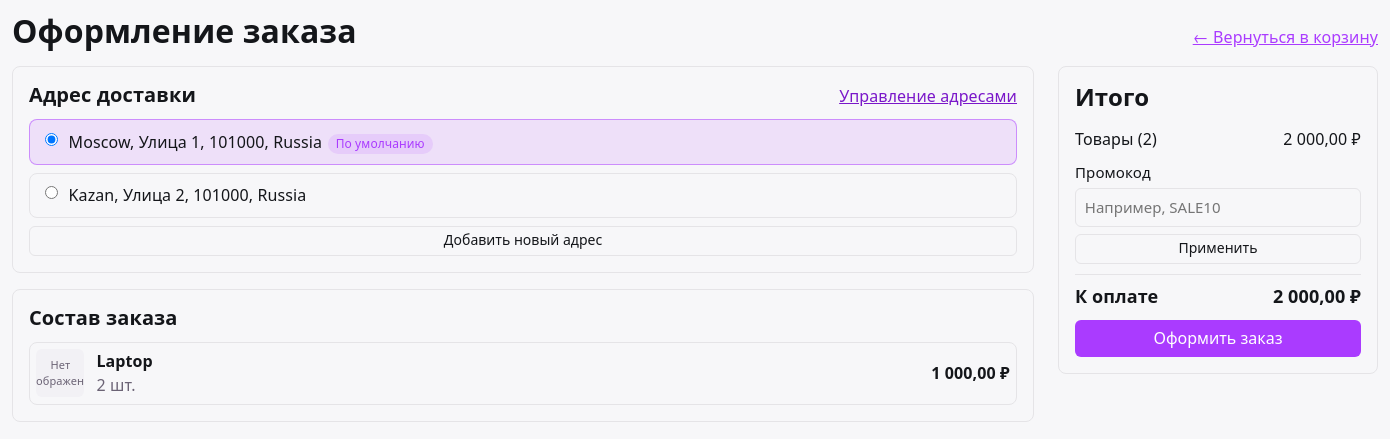
Test: CheckoutPage › ошибка промокода показывается и результат не рендерится
Type "BAD" into the field labelled "Промокод" at (1218, 208), box [1075, 188, 1361, 227]
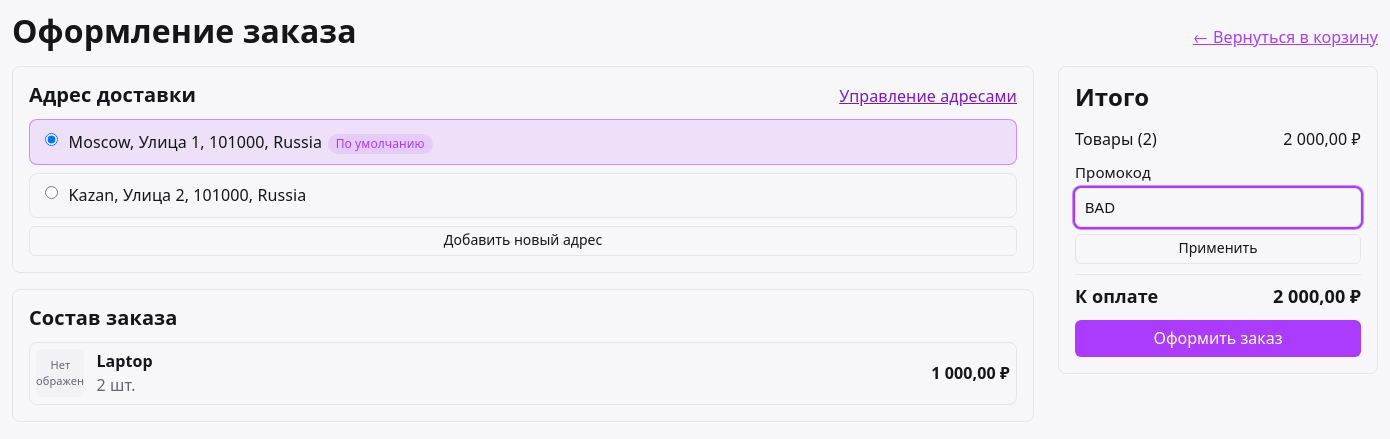
Click the button "Применить" at (1218, 248), box [1075, 234, 1361, 264]
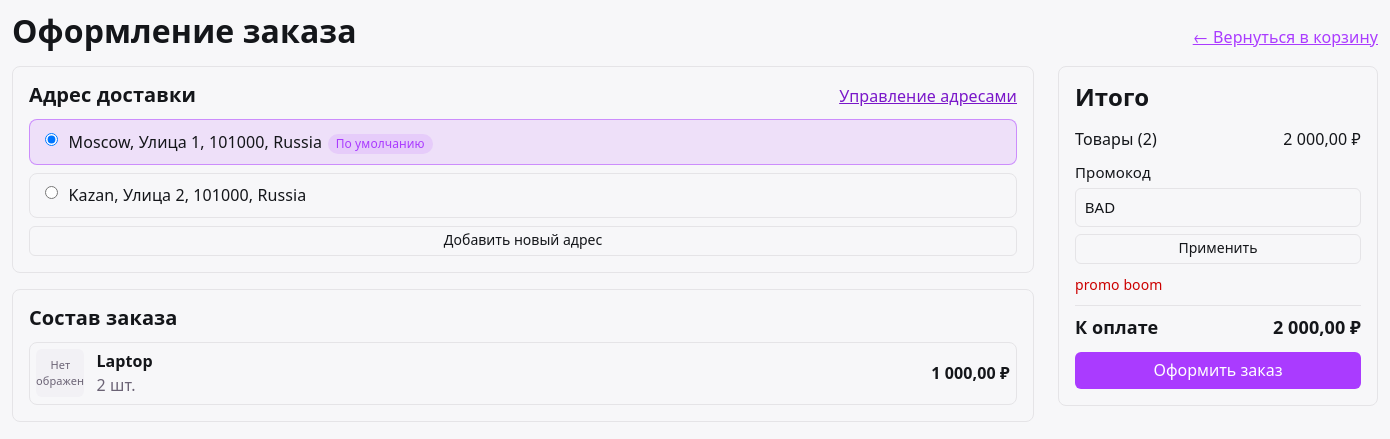
Now the text "promo boom" is shown, box [1075, 275, 1162, 294]
